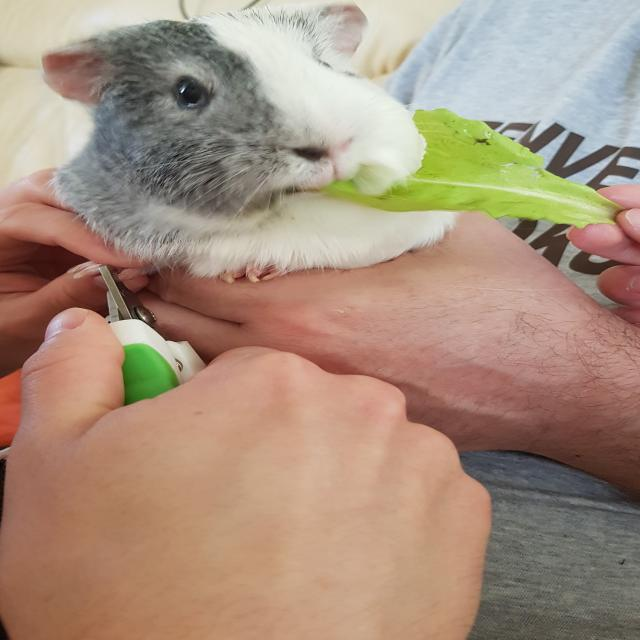guinea pig: (27, 0, 463, 287)
